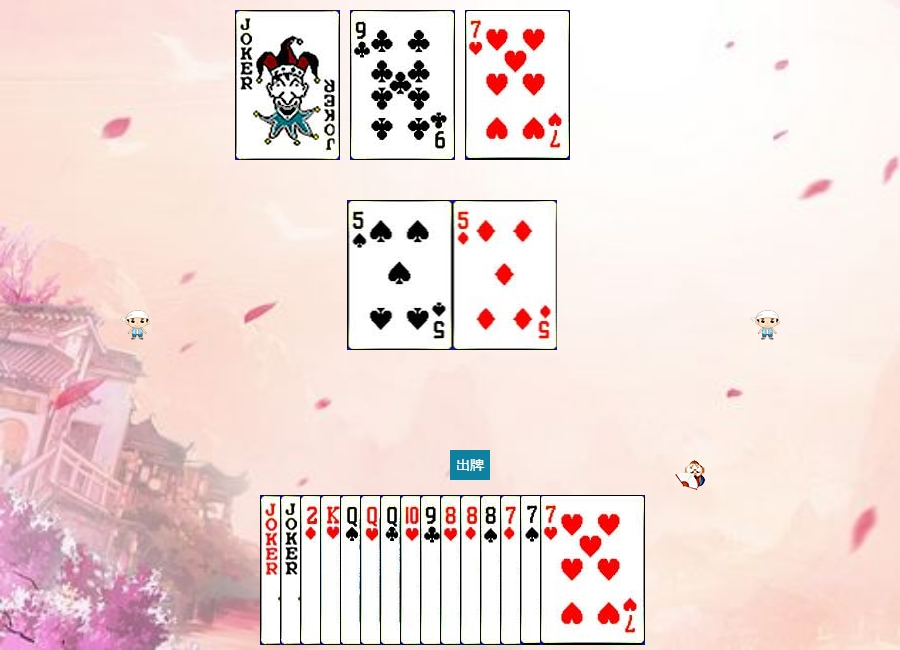10~3: (400, 495, 505, 645)
12~2: (380, 495, 485, 645)
12~3: (360, 495, 465, 645)
12~4: (340, 495, 445, 645)
13~3: (320, 495, 425, 645)
15~1: (300, 495, 405, 645)
17~3: (235, 10, 340, 160), (280, 495, 385, 645)
18~4: (260, 495, 365, 645)
5~1: (453, 200, 558, 350)
5~4: (348, 200, 453, 350)
7~1: (500, 495, 605, 645)
7~3: (465, 10, 570, 160), (540, 495, 645, 645)
7~4: (520, 495, 625, 645)
8~1: (460, 495, 565, 645)
8~3: (440, 495, 545, 645)
8~4: (480, 495, 585, 645)
9~2: (350, 10, 455, 160), (420, 495, 525, 645)
